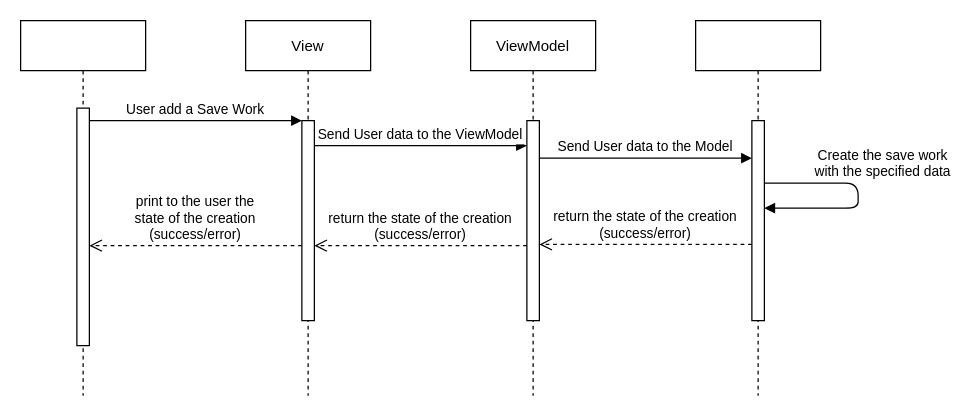
Image size: 974x416. Some labels were removed from this diagram. Here are the shapes that lost their labels. From the top down, the box of each, then its label:
(19, 19, 146, 396): User
(694, 19, 821, 396): Model
